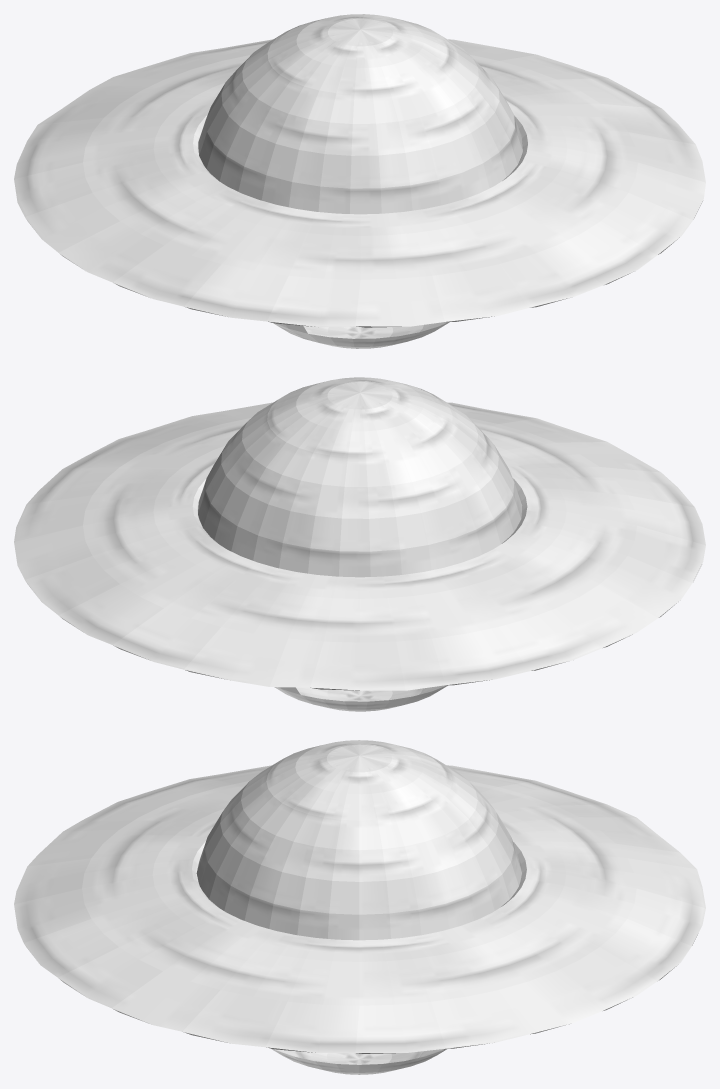
Rendered from ufo.glb.
3 views of the same model, one above another, from view 1: azimuth 30°, elevation 25°; view 2: azimuth 150°, elevation 25°; view 3: azimuth 270°, elevation 25° (orthographic).
Parts seen in each view (by area): view 1: Torus, Torus.001; view 2: Torus, Torus.001; view 3: Torus, Torus.001.
Part boxes in pixels (bbox=[...]): Torus: bbox=[14, 39, 705, 327]; Torus.001: bbox=[242, 14, 478, 348]; Torus: bbox=[14, 402, 705, 690]; Torus.001: bbox=[226, 377, 498, 711]; Torus: bbox=[14, 765, 705, 1053]; Torus.001: bbox=[241, 740, 498, 1074].
Bounding box in the file's own units: 4.14 × 2 × 4.13.
1 material, 1 textured.
